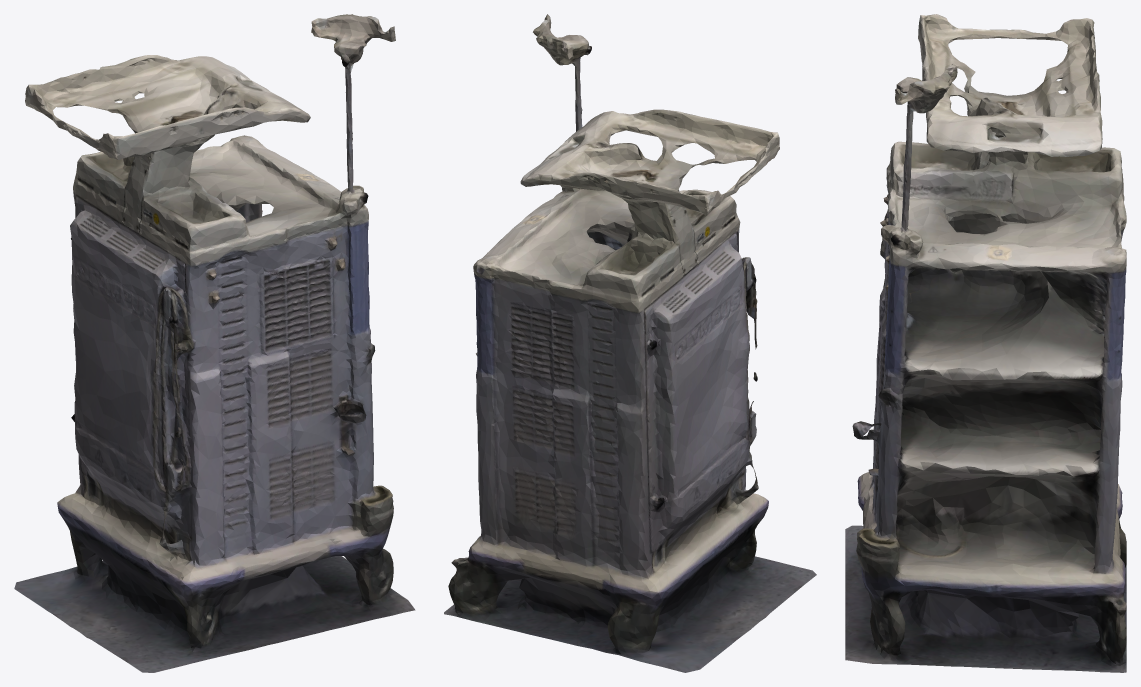
The model's file is raft.fbx.
3 renders of one model, left to right at view 1: azimuth 30°, elevation 25°; view 2: azimuth 150°, elevation 25°; view 3: azimuth 270°, elevation 25°, orthographic. The views are drawn at different scales.
Bounding box in the file's own units: 0.4406 × 0.8815 × 0.384.
Materials: 1 (1 with a texture image).
